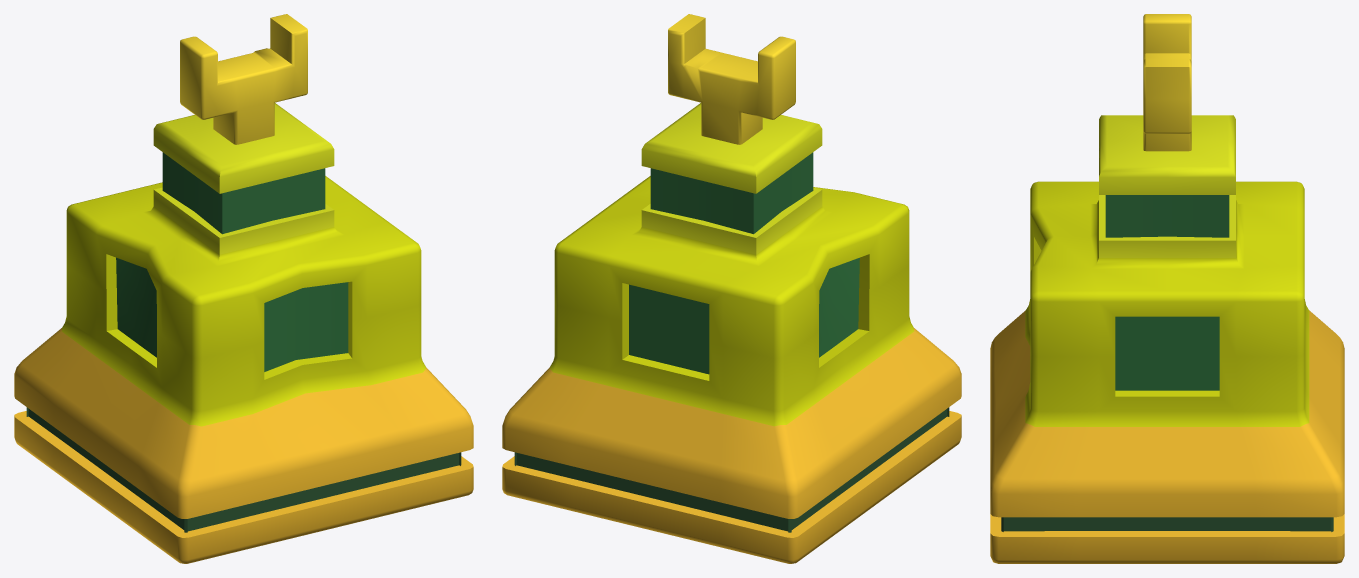
Rendered from temple1.fbx.
3 renders of one model, left to right at view 1: azimuth 30°, elevation 25°; view 2: azimuth 150°, elevation 25°; view 3: azimuth 270°, elevation 25°, orthographic. The views are drawn at different scales.
Parts seen in each view (by area): view 1: temple1; view 2: temple1; view 3: temple1.
Part boxes in pixels (bbox=[...]): temple1: bbox=[14, 14, 473, 563]; temple1: bbox=[502, 14, 961, 563]; temple1: bbox=[990, 14, 1344, 563].
Size of the model in its own units: 258 by 364 by 258.
